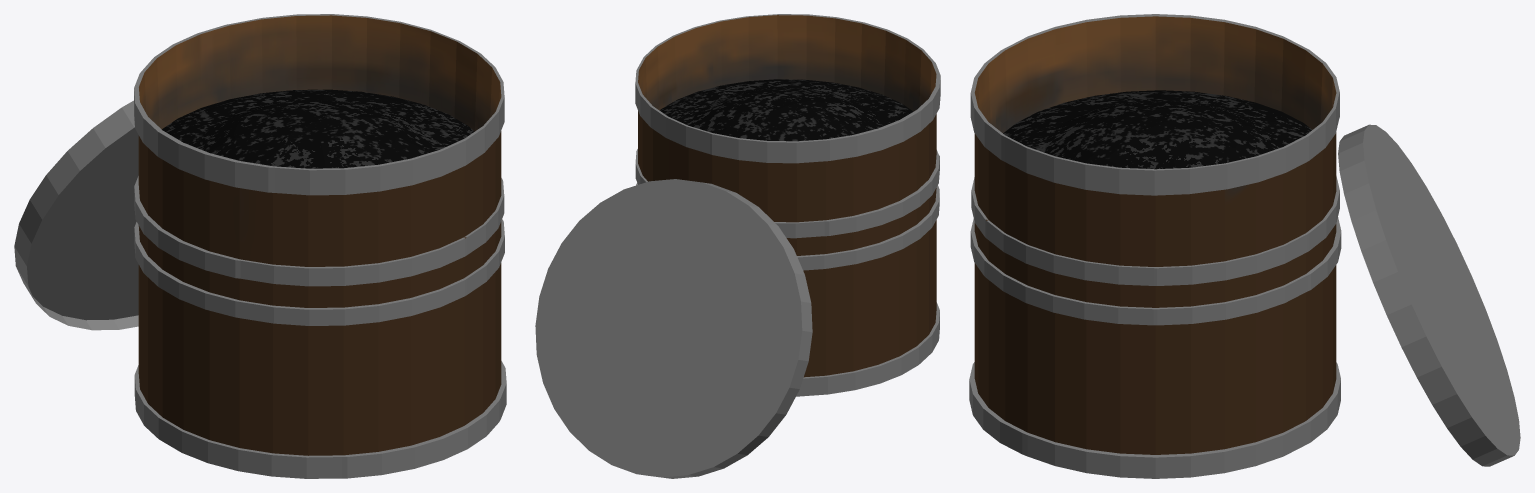
File: tynnyri.fbx
3 renders of one model, left to right at view 1: azimuth 30°, elevation 25°; view 2: azimuth 150°, elevation 25°; view 3: azimuth 270°, elevation 25°, orthographic. The views are drawn at different scales.
Parts seen in each view (by area): view 1: Cylinder, Cylinder.001, Sphere, Cylinder.006, Cylinder.004, Cylinder.003, Cylinder.005; view 2: Cylinder.001, Cylinder, Sphere, Cylinder.006, Cylinder.003, Cylinder.004, Cylinder.005; view 3: Cylinder, Cylinder.001, Sphere, Cylinder.006, Cylinder.004, Cylinder.003, Cylinder.005.
Boxes of the visible parts, bbox=[...] form: Cylinder: bbox=[138, 15, 501, 455]; Cylinder.001: bbox=[14, 100, 138, 330]; Sphere: bbox=[162, 89, 474, 168]; Cylinder.006: bbox=[134, 14, 504, 195]; Cylinder.004: bbox=[134, 361, 506, 478]; Cylinder.003: bbox=[134, 176, 504, 286]; Cylinder.005: bbox=[134, 219, 504, 325]; Cylinder.001: bbox=[535, 179, 812, 478]; Cylinder: bbox=[638, 15, 936, 377]; Sphere: bbox=[659, 79, 913, 141]; Cylinder.006: bbox=[635, 14, 940, 163]; Cylinder.003: bbox=[635, 149, 939, 238]; Cylinder.004: bbox=[796, 302, 939, 396]; Cylinder.005: bbox=[636, 183, 939, 270]; Cylinder: bbox=[974, 16, 1336, 454]; Cylinder.001: bbox=[1338, 124, 1520, 466]; Sphere: bbox=[1003, 90, 1311, 169]; Cylinder.006: bbox=[970, 14, 1339, 195]; Cylinder.004: bbox=[969, 362, 1340, 478]; Cylinder.003: bbox=[971, 176, 1339, 285]; Cylinder.005: bbox=[970, 217, 1341, 325].
Size of the model in its own units: 206 by 217 by 305.
